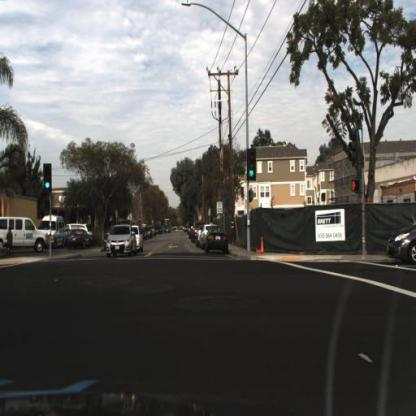car: (1, 216, 56, 254), (385, 215, 416, 266), (106, 223, 138, 259), (41, 216, 71, 252), (205, 226, 229, 254), (65, 229, 92, 250), (131, 223, 145, 250), (200, 224, 212, 252)
pedestrian: (6, 227, 16, 254)
trafficLight: (246, 149, 258, 183), (44, 163, 53, 192)
trafficLight-Red: (351, 174, 364, 197)
truck: (1, 216, 51, 252), (39, 216, 69, 250), (67, 222, 93, 238)
